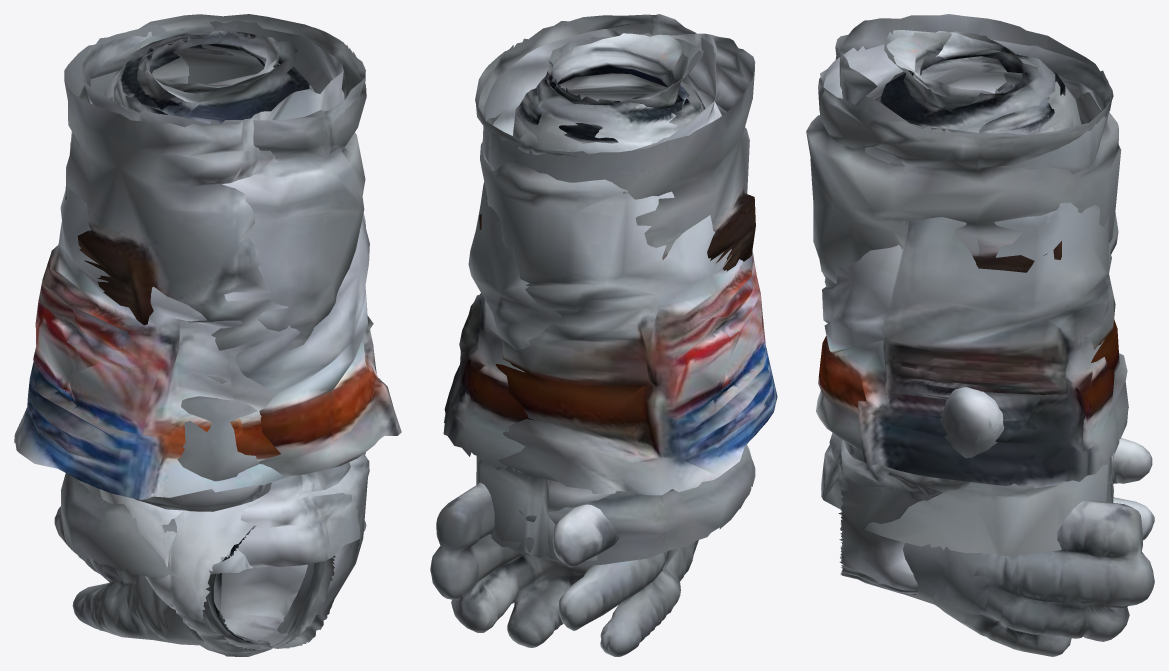
Rendered from astronaut-arms.glb.
3 views of the same model, side by side, from view 1: azimuth 30°, elevation 25°; view 2: azimuth 150°, elevation 25°; view 3: azimuth 270°, elevation 25° (orthographic). The views are drawn at different scales.
Visible parts, largest first — view 1: arm_l_upper, arm_r_upper, arm_r_fore, arm_l_fore, arm_l_hand, arm_r_hand; view 2: arm_l_upper, arm_r_upper, arm_r_fore, arm_l_fore, arm_r_hand, arm_l_hand; view 3: arm_r_upper, arm_l_upper, arm_l_fore, arm_r_hand, arm_l_hand, arm_r_fore.
Part boxes in pixels (left/top/right/bottom): arm_l_upper: left=14, top=14, right=366, bottom=500; arm_r_upper: left=64, top=20, right=401, bottom=476; arm_r_fore: left=61, top=32, right=279, bottom=578; arm_l_fore: left=104, top=30, right=366, bottom=567; arm_l_hand: left=54, top=452, right=369, bottom=648; arm_r_hand: left=77, top=479, right=335, bottom=656; arm_l_upper: left=475, top=14, right=777, bottom=495; arm_r_upper: left=443, top=29, right=755, bottom=472; arm_r_fore: left=491, top=33, right=755, bottom=565; arm_l_fore: left=476, top=33, right=703, bottom=560; arm_r_hand: left=430, top=444, right=751, bottom=647; arm_l_hand: left=552, top=504, right=698, bottom=656; arm_r_upper: left=816, top=14, right=1119, bottom=488; arm_l_upper: left=806, top=39, right=1128, bottom=440; arm_l_fore: left=821, top=30, right=1113, bottom=555; arm_r_hand: left=838, top=500, right=1154, bottom=656; arm_l_hand: left=839, top=387, right=1154, bottom=595; arm_r_fore: left=875, top=31, right=1113, bottom=502.
Bounding box in the file's own units: 0.2 × 0.3792 × 0.2067.
2 materials, 2 textured.
